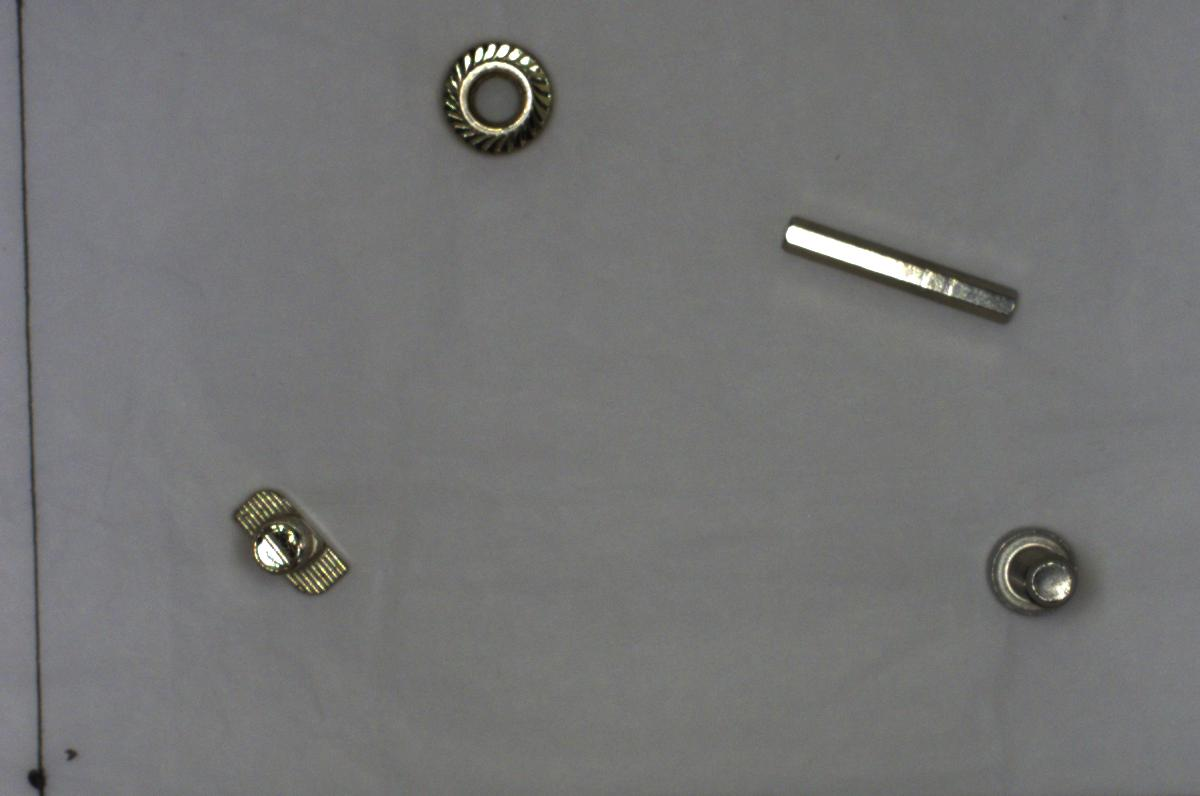Double hexagonal column: (775, 205, 1030, 336)
Flange nut: (430, 35, 561, 156)
Hexagon screw: (977, 515, 1080, 625)
T-shaped screw: (221, 479, 357, 612)
